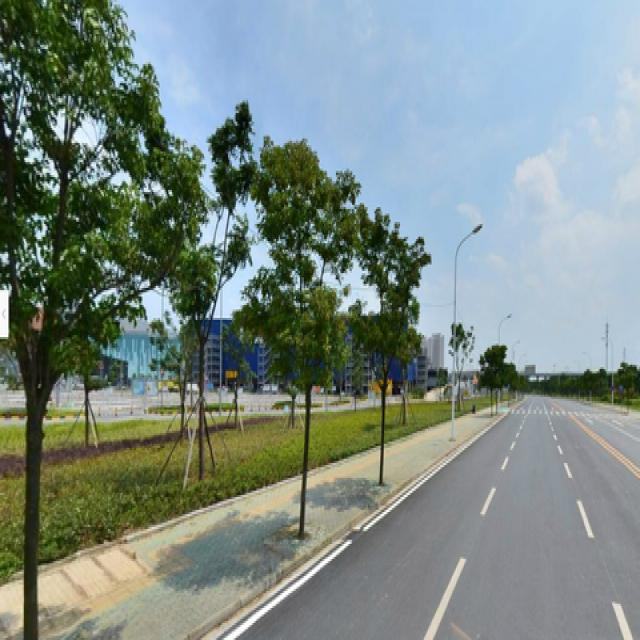koel: (258, 141, 354, 508)
